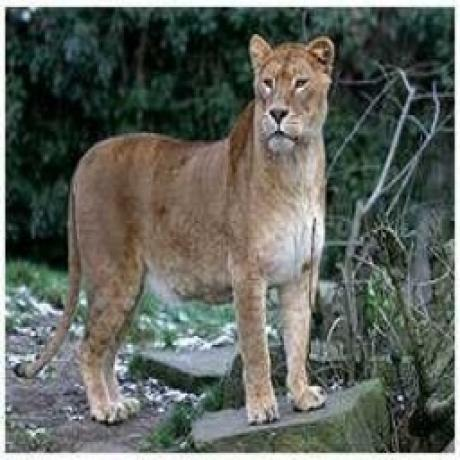Lion: (13, 31, 332, 427)
